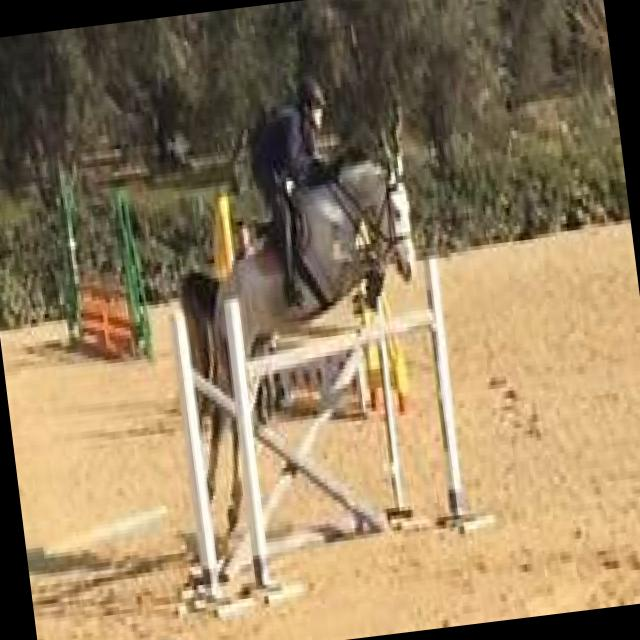horse: (160, 126, 439, 534)
